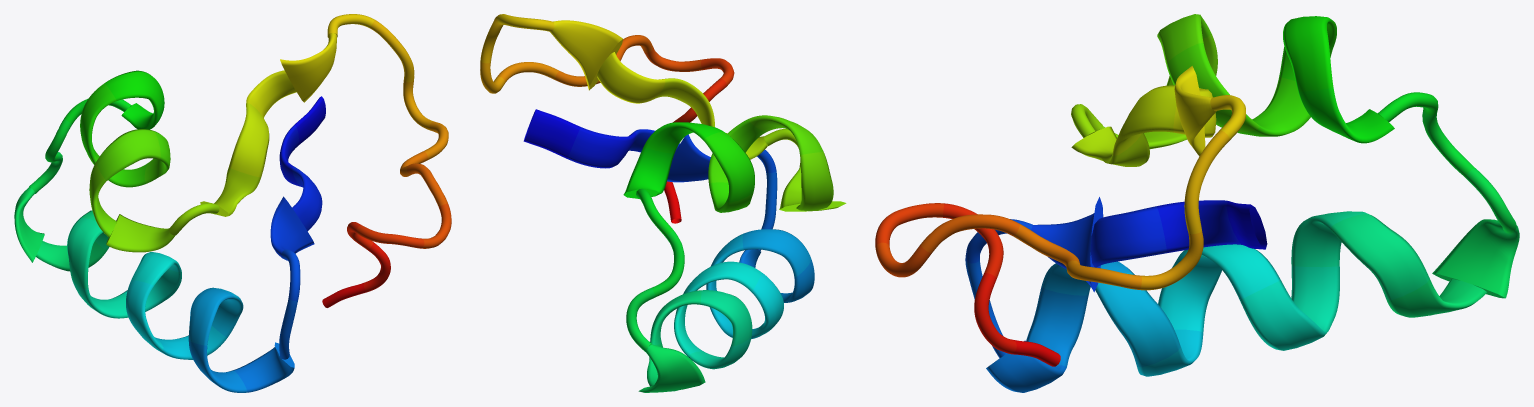
The model's file is CA_1CRN.fbx.
3 views of the same model, side by side, from view 1: azimuth 30°, elevation 25°; view 2: azimuth 150°, elevation 25°; view 3: azimuth 270°, elevation 25° (orthographic). The views are drawn at different scales.
Parts seen in each view (by area): view 1: 1CRN_0; view 2: 1CRN_0; view 3: 1CRN_0.
Boxes of the visible parts, <box> form: 1CRN_0: <box>14,14,451,392</box>; 1CRN_0: <box>480,14,846,392</box>; 1CRN_0: <box>875,14,1519,392</box>.
Size of the model in its own units: 22.59 by 18.18 by 26.63.
